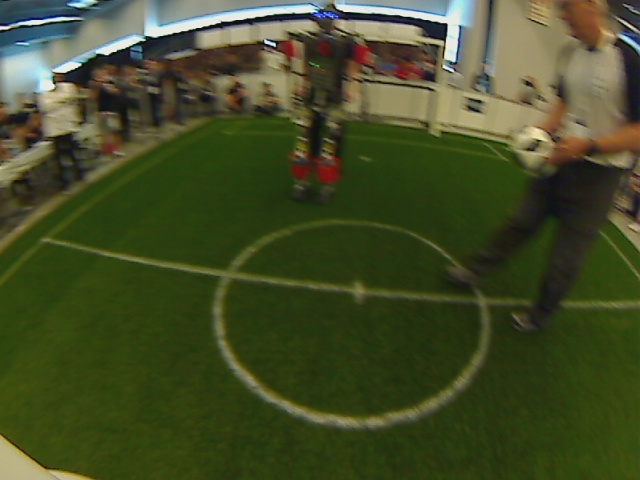ball: (511, 125, 556, 175)
